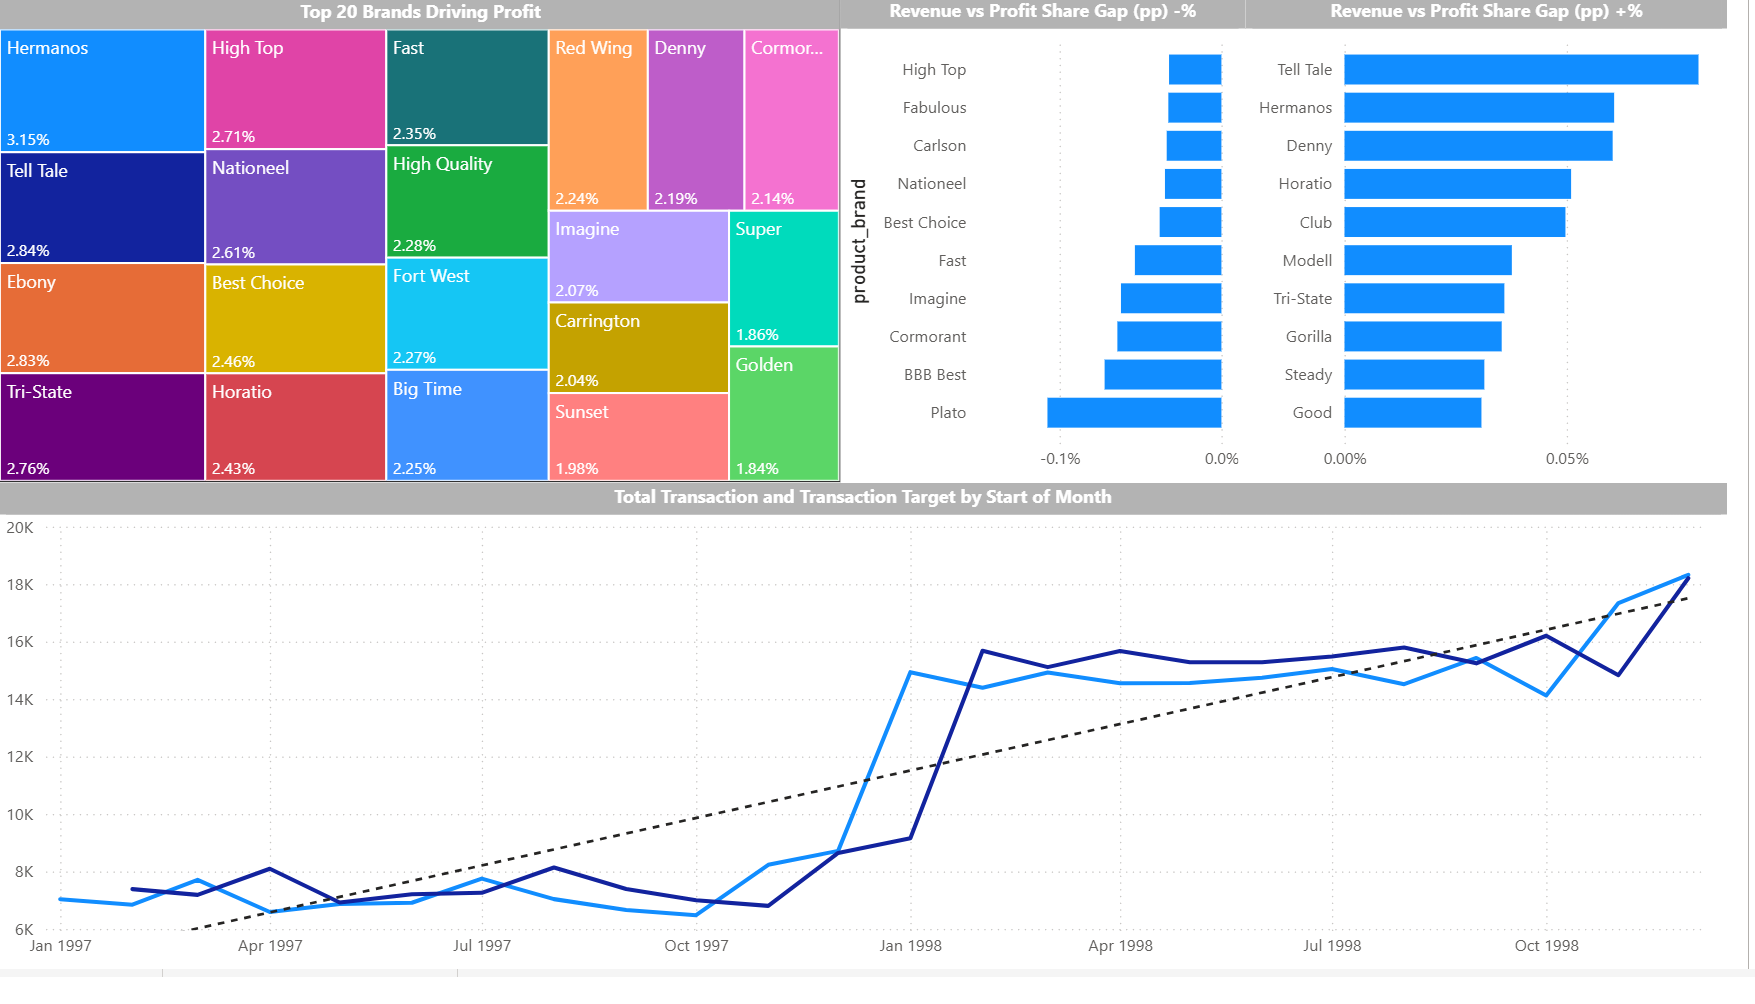

This screenshot's page, from the dashboard's own definition file:
{"tool":"powerbi","page":{"name":"Products","canvas":[1280,720],"ordinal":2},"visuals":[{"type":"treemap","title":"Top 20 Brands Driving  Profit","fields":{"Group":["Products.product_brand"],"Values":["Measure Table.Total Profit % By Brand"]},"box":[0,0,623.5,359.4],"z":0},{"type":"clusteredBarChart","title":"Revenue vs Profit Share Gap (pp) -%","fields":{"Category":["Products.product_brand"],"Y":["Measure Table.Revenue vs Profit Share Gap (pp)"]},"box":[623.5,0,299.8,359.4],"z":1000},{"type":"clusteredBarChart","title":"Revenue vs Profit Share Gap (pp) +%","fields":{"Category":["Products.product_brand"],"Y":["Measure Table.Revenue vs Profit Share Gap (pp)"]},"box":[923.3,0,357.4,359.4],"z":2000},{"type":"lineChart","fields":{"Y":["Measure Table.Total Transaction","Measure Table.Transaction Target"],"Category":["Calendar.Start of Month"]},"box":[0,360,1280,360],"z":3000}]}

Visuals, with their boxes in screenshot pixels (x1, y1, x2, y2), scaled from the page's 1280x720 canvas onto the 1755x1004 screenshot:
"Top 20 Brands Driving  Profit" treemap: bbox(0, 0, 855, 501)
"Revenue vs Profit Share Gap (pp) -%" clusteredBarChart: bbox(855, 0, 1266, 501)
"Revenue vs Profit Share Gap (pp) +%" clusteredBarChart: bbox(1266, 0, 1754, 501)
lineChart - Measure Table.Total Transaction x Measure Table.Transaction Target: bbox(0, 502, 1754, 1003)
